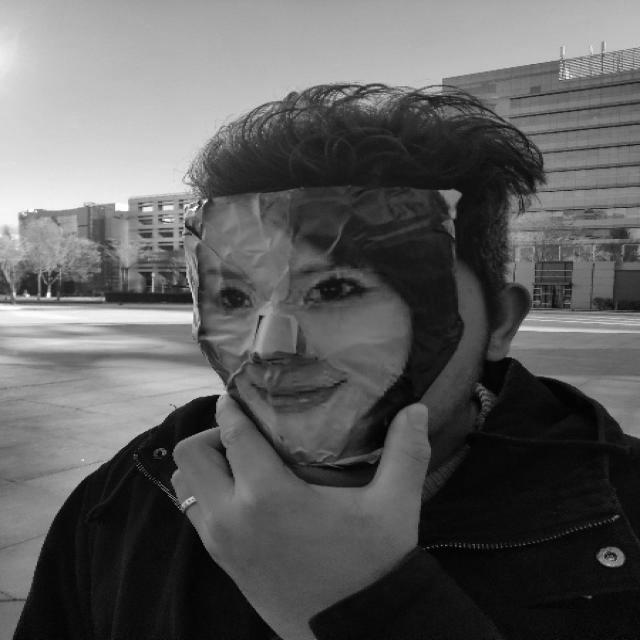fake: (177, 78, 520, 468)
